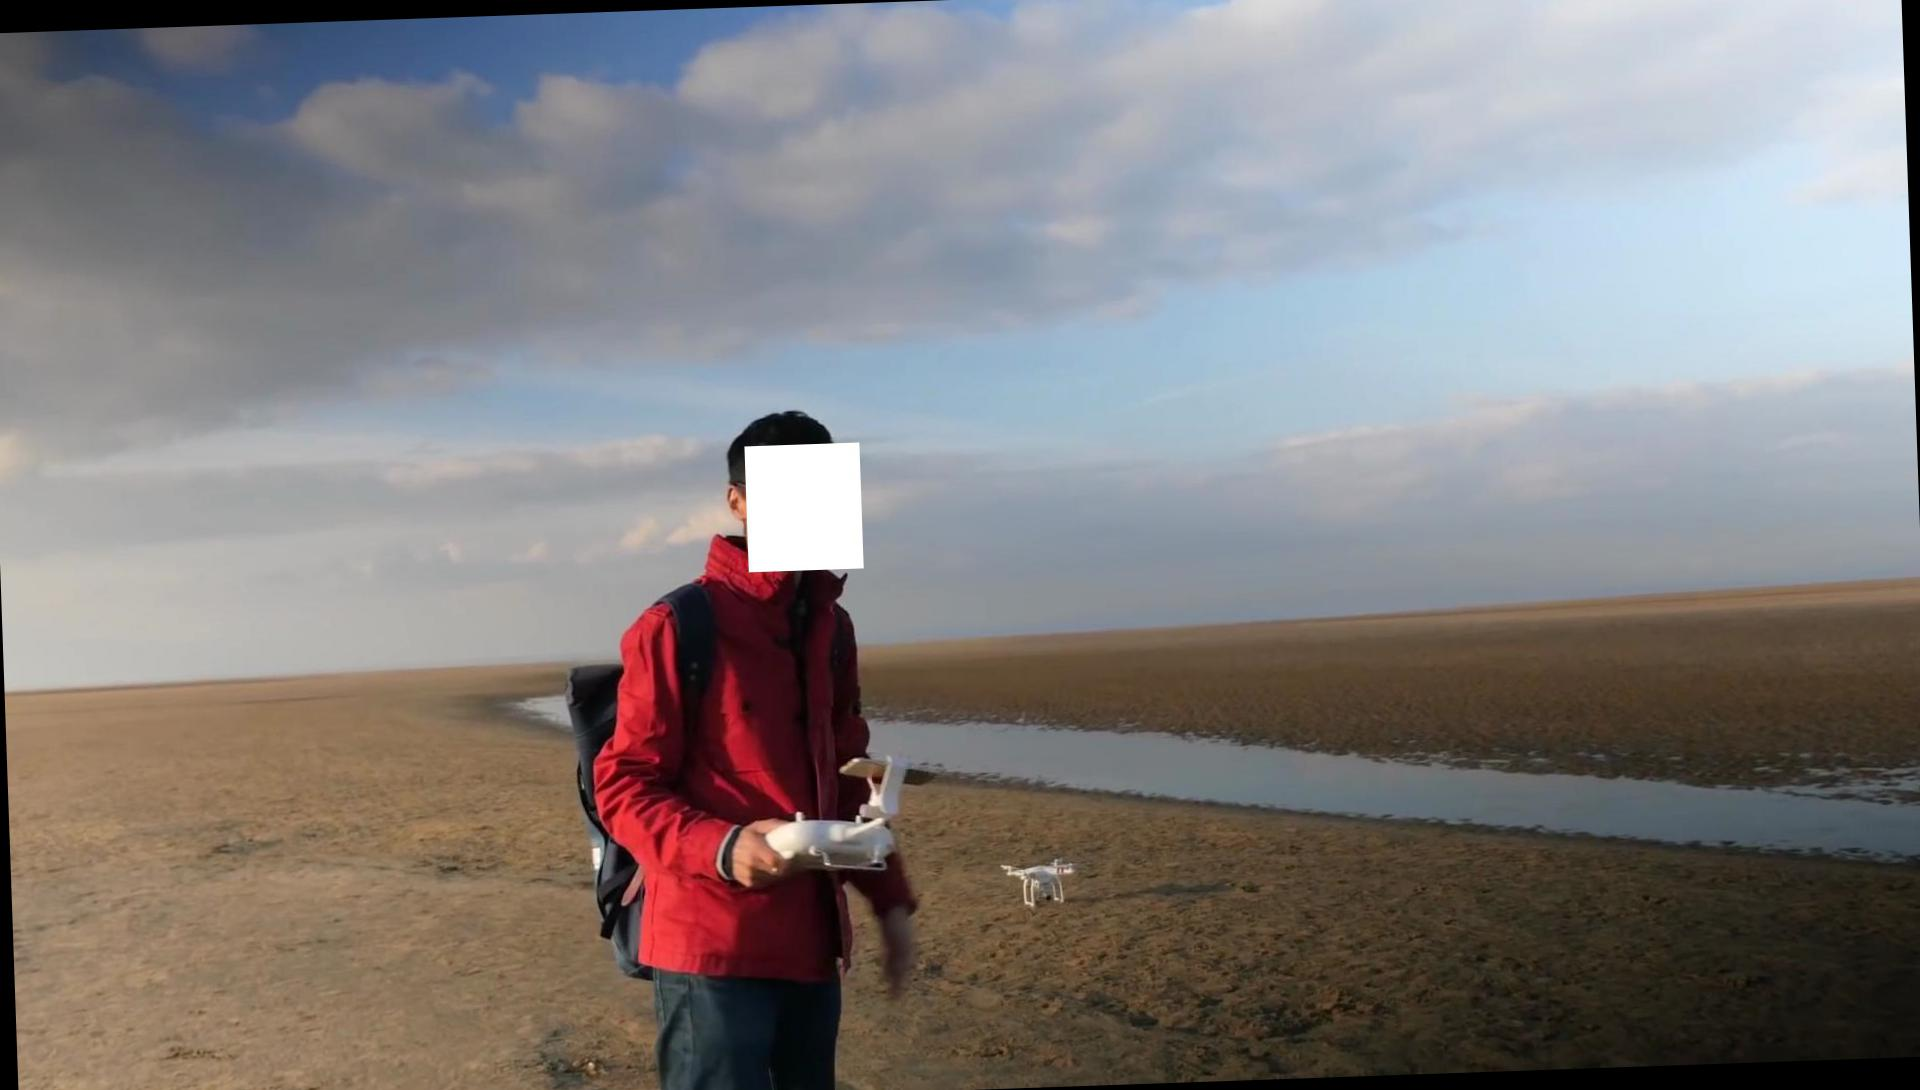drone: (996, 851, 1077, 909)
